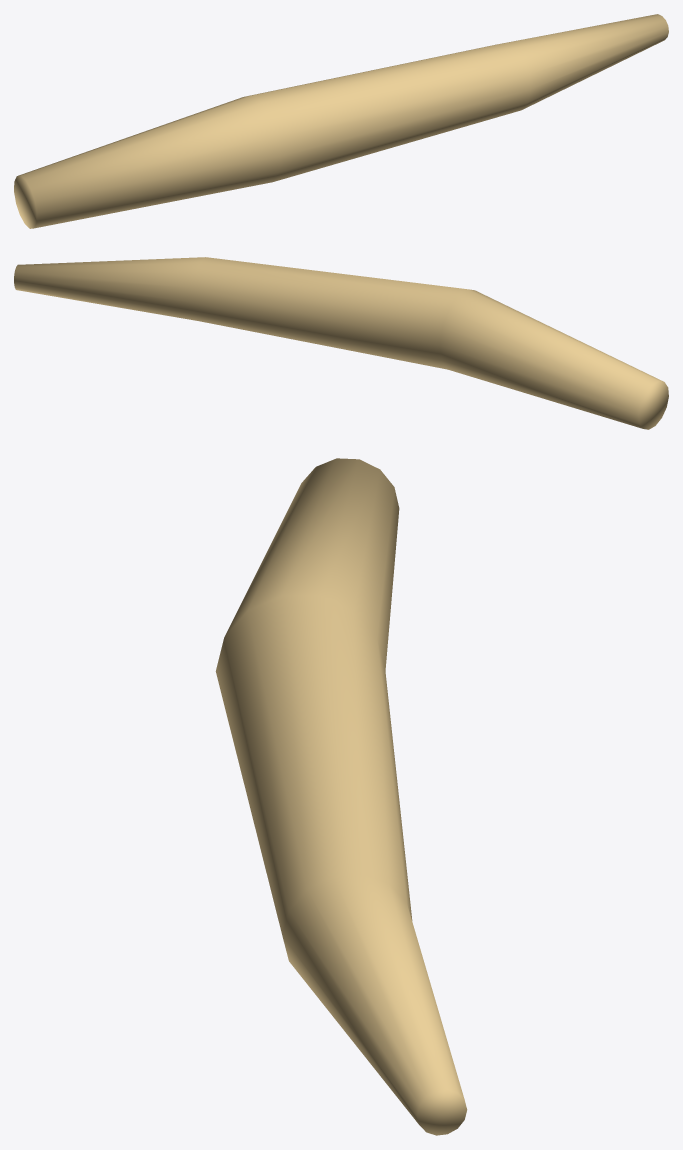
The model's file is driftwood.glb.
3 renders of one model, top to bottom at view 1: azimuth 30°, elevation 25°; view 2: azimuth 150°, elevation 25°; view 3: azimuth 270°, elevation 25°, orthographic. The views are drawn at different scales.
Parts seen in each view (by area): view 1: driftwood-log; view 2: driftwood-log; view 3: driftwood-log.
Part boxes in pixels (<box>): driftwood-log: <box>14,14,668,228</box>; driftwood-log: <box>14,257,668,429</box>; driftwood-log: <box>215,458,467,1135</box>.
Bounding box in the file's own units: 3.03 × 0.3625 × 0.5332.
